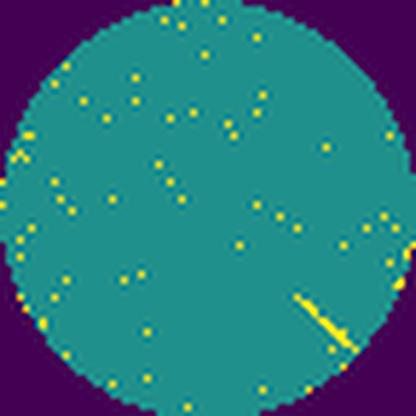Scratch: (289, 290, 362, 356)
